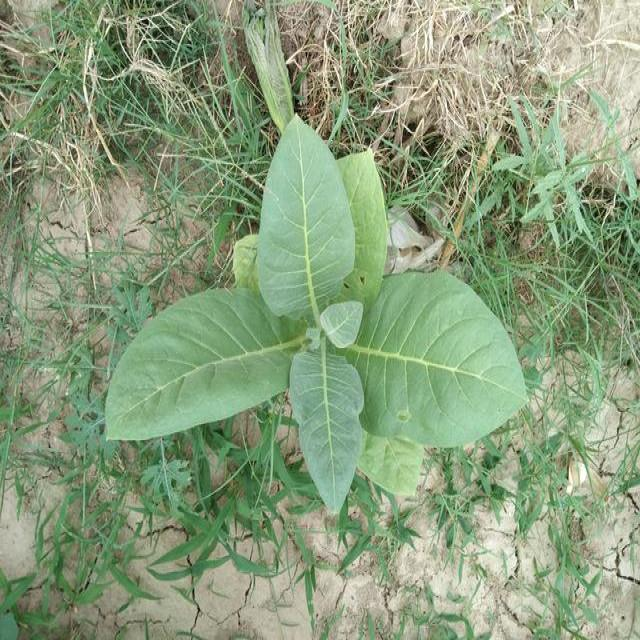crop: (100, 110, 534, 515)
